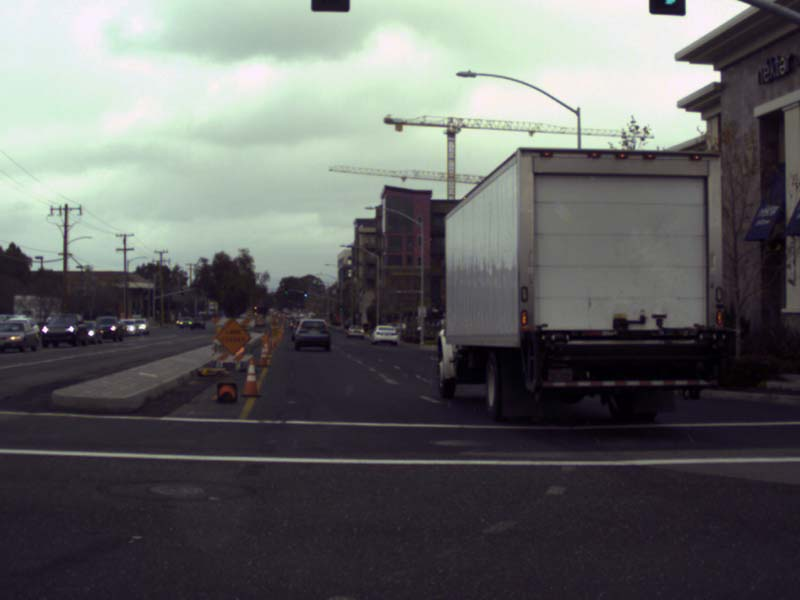Green: (303, 289, 307, 297), (284, 286, 287, 294), (340, 304, 341, 310)
Red: (253, 304, 257, 311)
